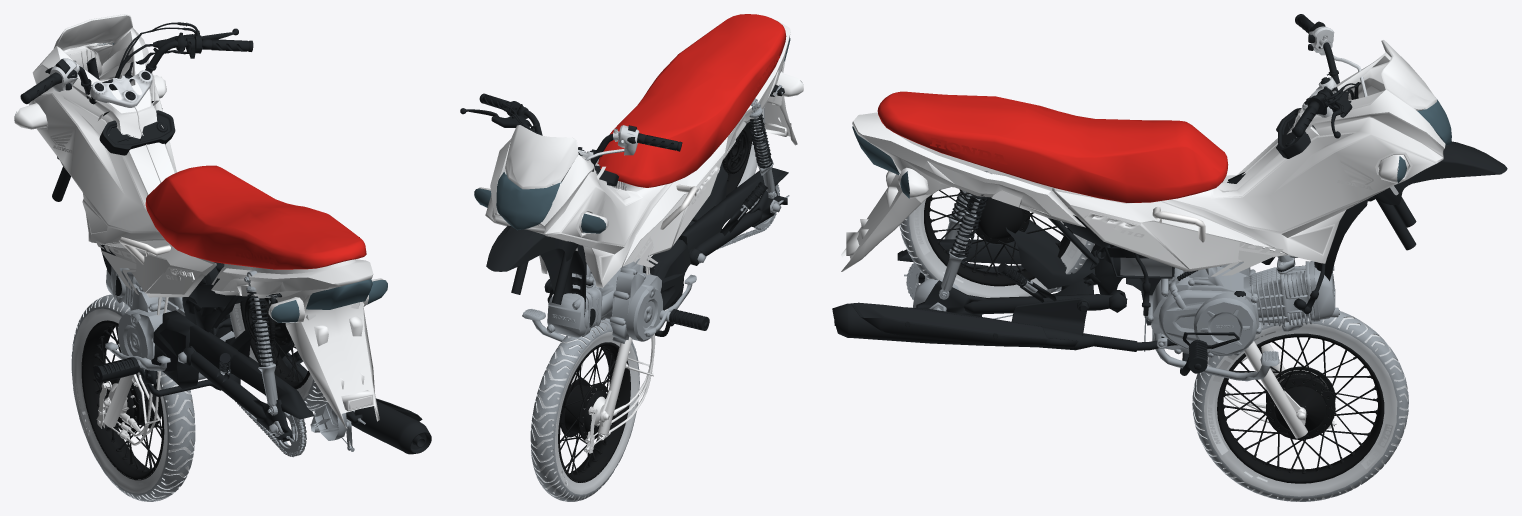
File: pop100e2024.glb
The picture shows the model from 3 angles, left to right: view 1: azimuth 30°, elevation 25°; view 2: azimuth 150°, elevation 25°; view 3: azimuth 270°, elevation 25°; orthographic projection. The views are drawn at different scales.
Visible parts, largest first — view 1: carenagem, banco, wheel_front, rabeta, forks_rear, motor, guidao, wheel_rear, escape, mudguard, vidro, forks_front (+4 smaller); view 2: banco, carenagem, wheel_front, motor, forks_rear, forks_front, vidro, guidao, mudguard, rabeta, wheel_rear, alca (+1 smaller); view 3: carenagem, banco, wheel_front, motor, forks_rear, escape, rabeta, wheel_rear, forks_front, guidao, mudguard, chassis (+3 smaller).
Boxes of the visible parts, x1=… form: carenagem: x1=14, y1=14, x2=216, y2=297; banco: x1=145, y1=165, x2=366, y2=269; wheel_front: x1=71, y1=294, x2=195, y2=501; rabeta: x1=211, y1=259, x2=387, y2=428; forks_rear: x1=178, y1=270, x2=365, y2=457; motor: x1=86, y1=57, x2=234, y2=396; guidao: x1=20, y1=22, x2=253, y2=104; wheel_rear: x1=229, y1=297, x2=327, y2=411; escape: x1=286, y1=352, x2=431, y2=454; mudguard: x1=96, y1=297, x2=168, y2=445; vidro: x1=15, y1=43, x2=387, y2=322; forks_front: x1=52, y1=70, x2=152, y2=275; banco: x1=597, y1=14, x2=786, y2=187; carenagem: x1=474, y1=125, x2=728, y2=287; wheel_front: x1=530, y1=320, x2=639, y2=501; motor: x1=522, y1=239, x2=709, y2=343; forks_rear: x1=679, y1=98, x2=789, y2=265; forks_front: x1=486, y1=147, x2=599, y2=316; vidro: x1=474, y1=37, x2=790, y2=233; guidao: x1=460, y1=93, x2=682, y2=181; mudguard: x1=571, y1=257, x2=655, y2=453; rabeta: x1=723, y1=20, x2=803, y2=159; wheel_rear: x1=722, y1=107, x2=764, y2=195; alca: x1=660, y1=184, x2=697, y2=229; carenagem: x1=1052, y1=40, x2=1445, y2=271; banco: x1=877, y1=91, x2=1228, y2=202; wheel_front: x1=1192, y1=311, x2=1408, y2=501; motor: x1=1096, y1=196, x2=1375, y2=381; forks_rear: x1=897, y1=171, x2=1127, y2=318; escape: x1=832, y1=297, x2=1177, y2=351; rabeta: x1=841, y1=112, x2=1085, y2=271; wheel_rear: x1=899, y1=189, x2=1094, y2=297; forks_front: x1=1302, y1=77, x2=1507, y2=280; guidao: x1=1292, y1=14, x2=1367, y2=138; mudguard: x1=1224, y1=341, x2=1336, y2=438; chassis: x1=1048, y1=172, x2=1245, y2=294.
Bounding box in the file's own units: 0.7615 × 1.37 × 1.88.
